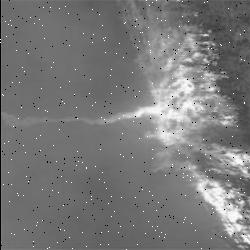fire: (114, 1, 250, 250)
